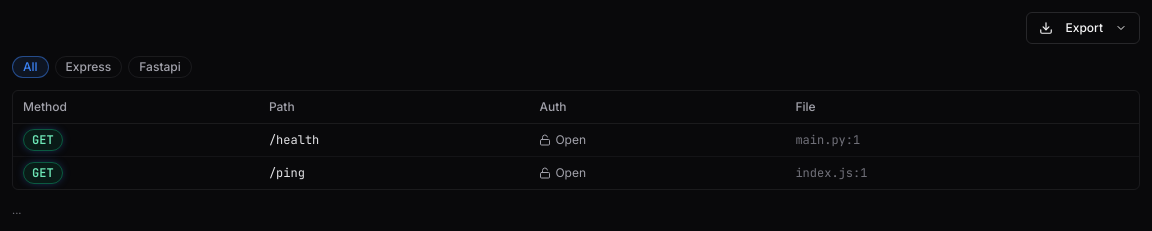
Test: RouteExplorerPanel › filters the table by framework when multiple frameworks are detected
Expected: the text "/health" is shown, [259, 124, 529, 156]
Expected: the text "/ping" is shown, [259, 156, 529, 189]
Click the button "fastapi": (160, 67) [128, 56, 192, 78]
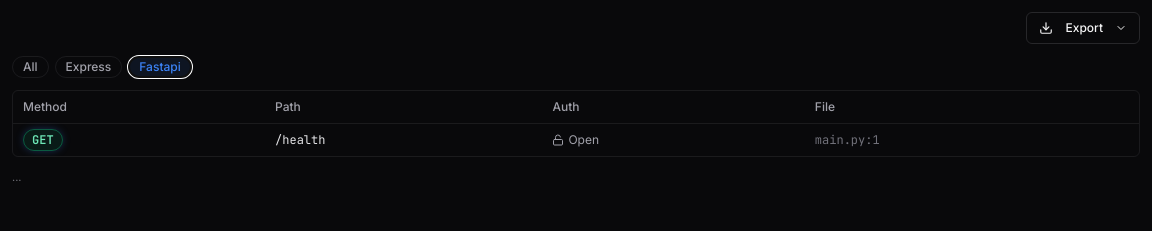
Expected: the text "/health" is shown, [265, 124, 542, 156]
Expected: the text "/ping" is gone
